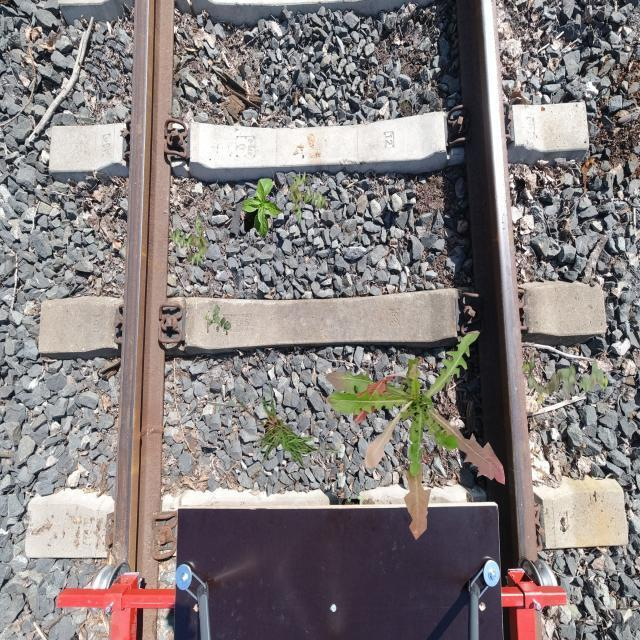Plant: (326, 332, 506, 540), (208, 380, 352, 470), (522, 355, 608, 407), (242, 178, 284, 238), (288, 171, 330, 225), (168, 214, 210, 268), (204, 305, 232, 336)
